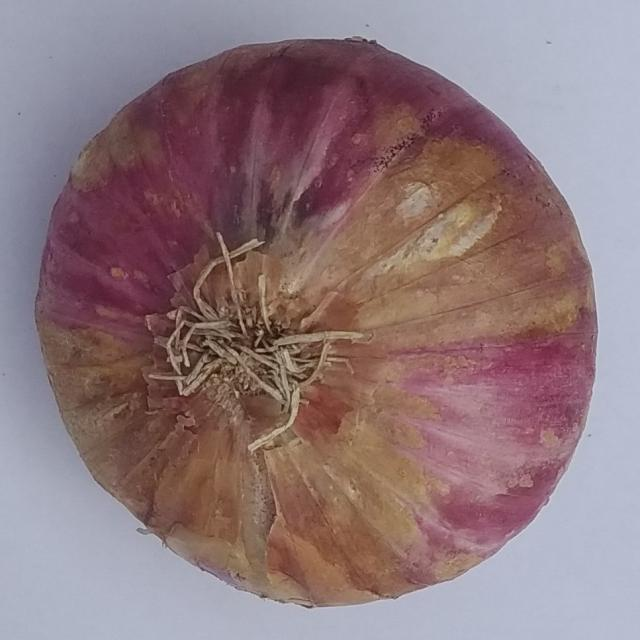onion: (29, 32, 602, 610)
